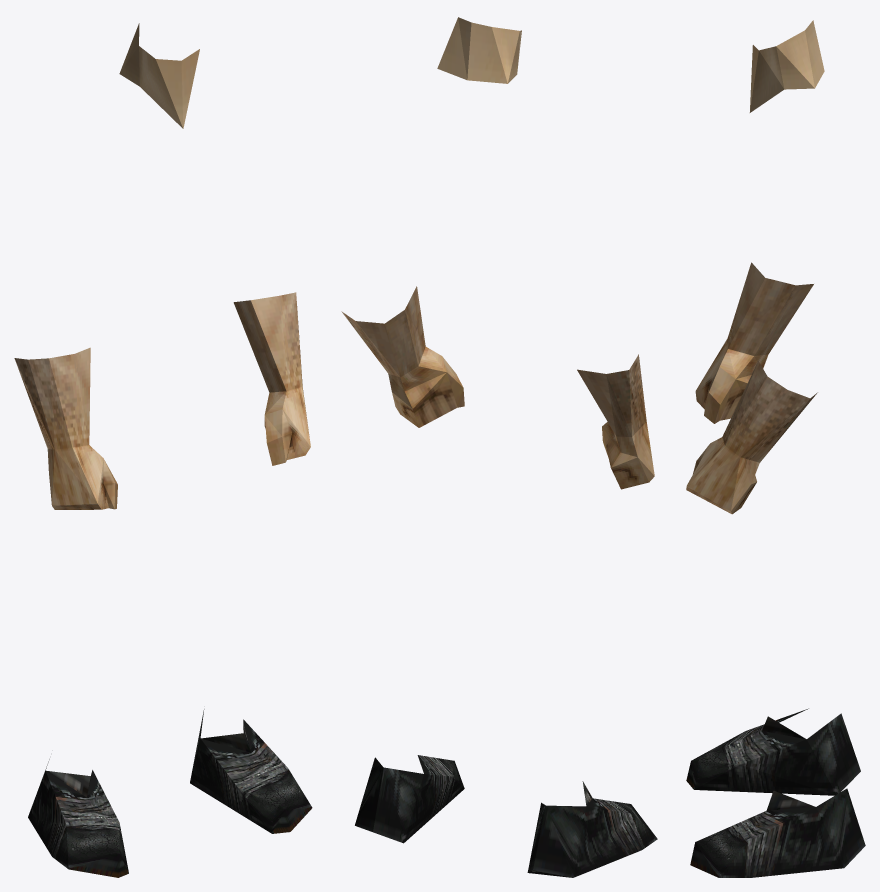
The model's file is Armor_KDW_H.glb.
3 views of the same model, side by side, from view 1: azimuth 30°, elevation 25°; view 2: azimuth 150°, elevation 25°; view 3: azimuth 270°, elevation 25° (orthographic). The views are drawn at different scales.
Visible parts, largest first — view 1: Armor_KDW_Hzm_Body; view 2: Armor_KDW_Hzm_Body; view 3: Armor_KDW_Hzm_Body.
Part boxes in pixels (x1,y1,x2,y2): Armor_KDW_Hzm_Body: [14, 23, 312, 877]; Armor_KDW_Hzm_Body: [341, 17, 657, 877]; Armor_KDW_Hzm_Body: [686, 20, 865, 877].
Size of the model in its own units: 0.5964 by 1.66 by 0.3325.
Materials: 1 (1 with a texture image).
